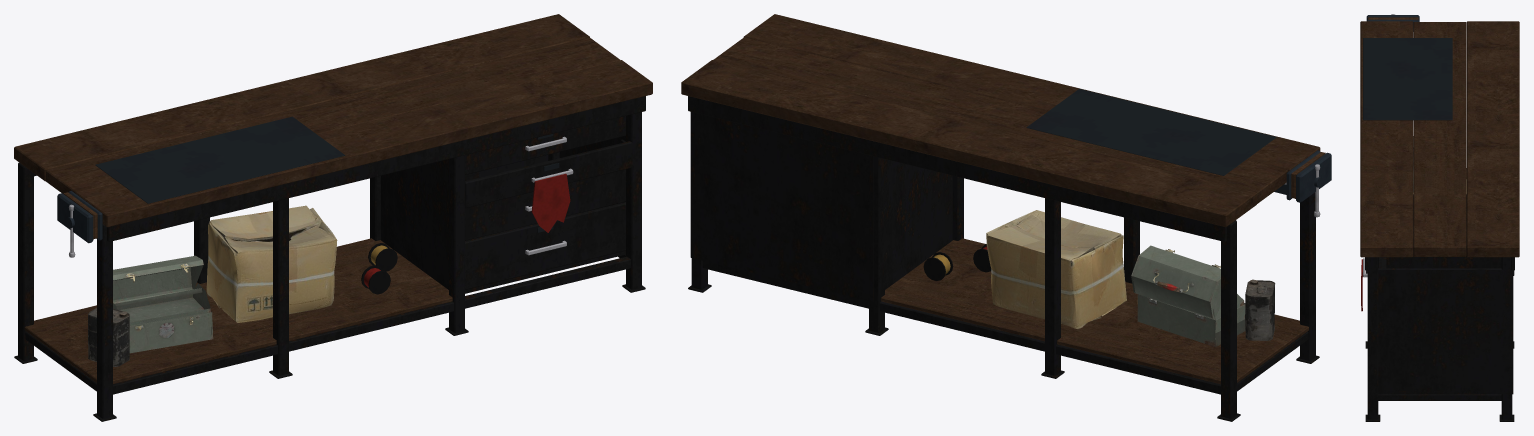
File: workbench.glb
The picture shows the model from 3 angles, left to right: view 1: azimuth 30°, elevation 25°; view 2: azimuth 150°, elevation 25°; view 3: azimuth 270°, elevation 25°; orthographic projection. The views are drawn at different scales.
Visible parts, largest first — view 1: workbench; view 2: workbench; view 3: workbench.
Boxes of the visible parts, bbox=[...] form: workbench: bbox=[14, 14, 652, 421]; workbench: bbox=[681, 14, 1331, 421]; workbench: bbox=[1360, 14, 1519, 421].
Size of the model in its own units: 2.6 by 0.92 by 0.7484.
Materials: 3 (3 with a texture image).
